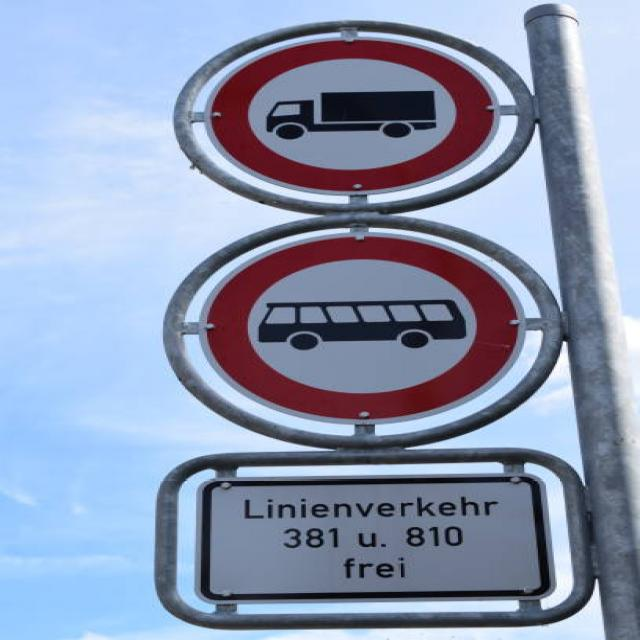do_not_enter: (182, 34, 512, 200)
